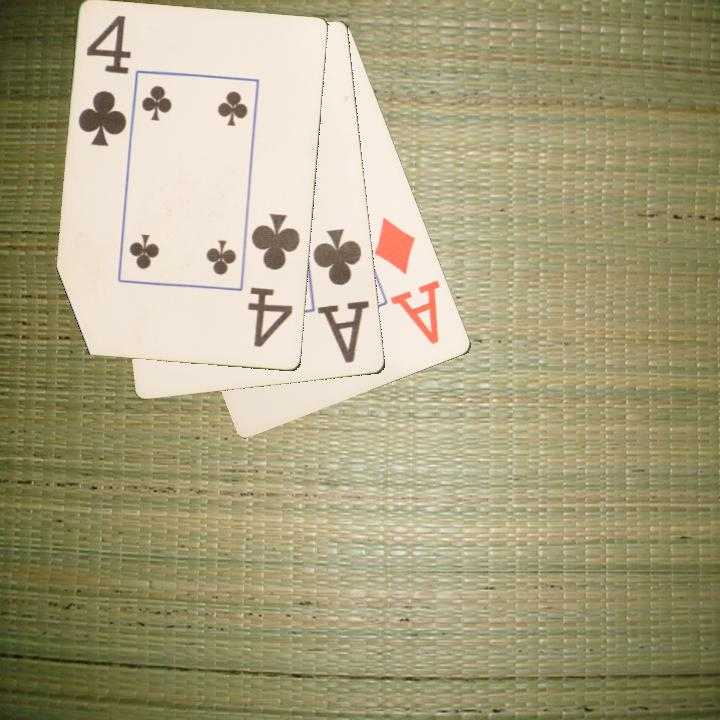4c: (245, 210, 304, 351), (75, 12, 134, 150)
Ac: (310, 225, 373, 366)
Ad: (371, 214, 444, 348)
